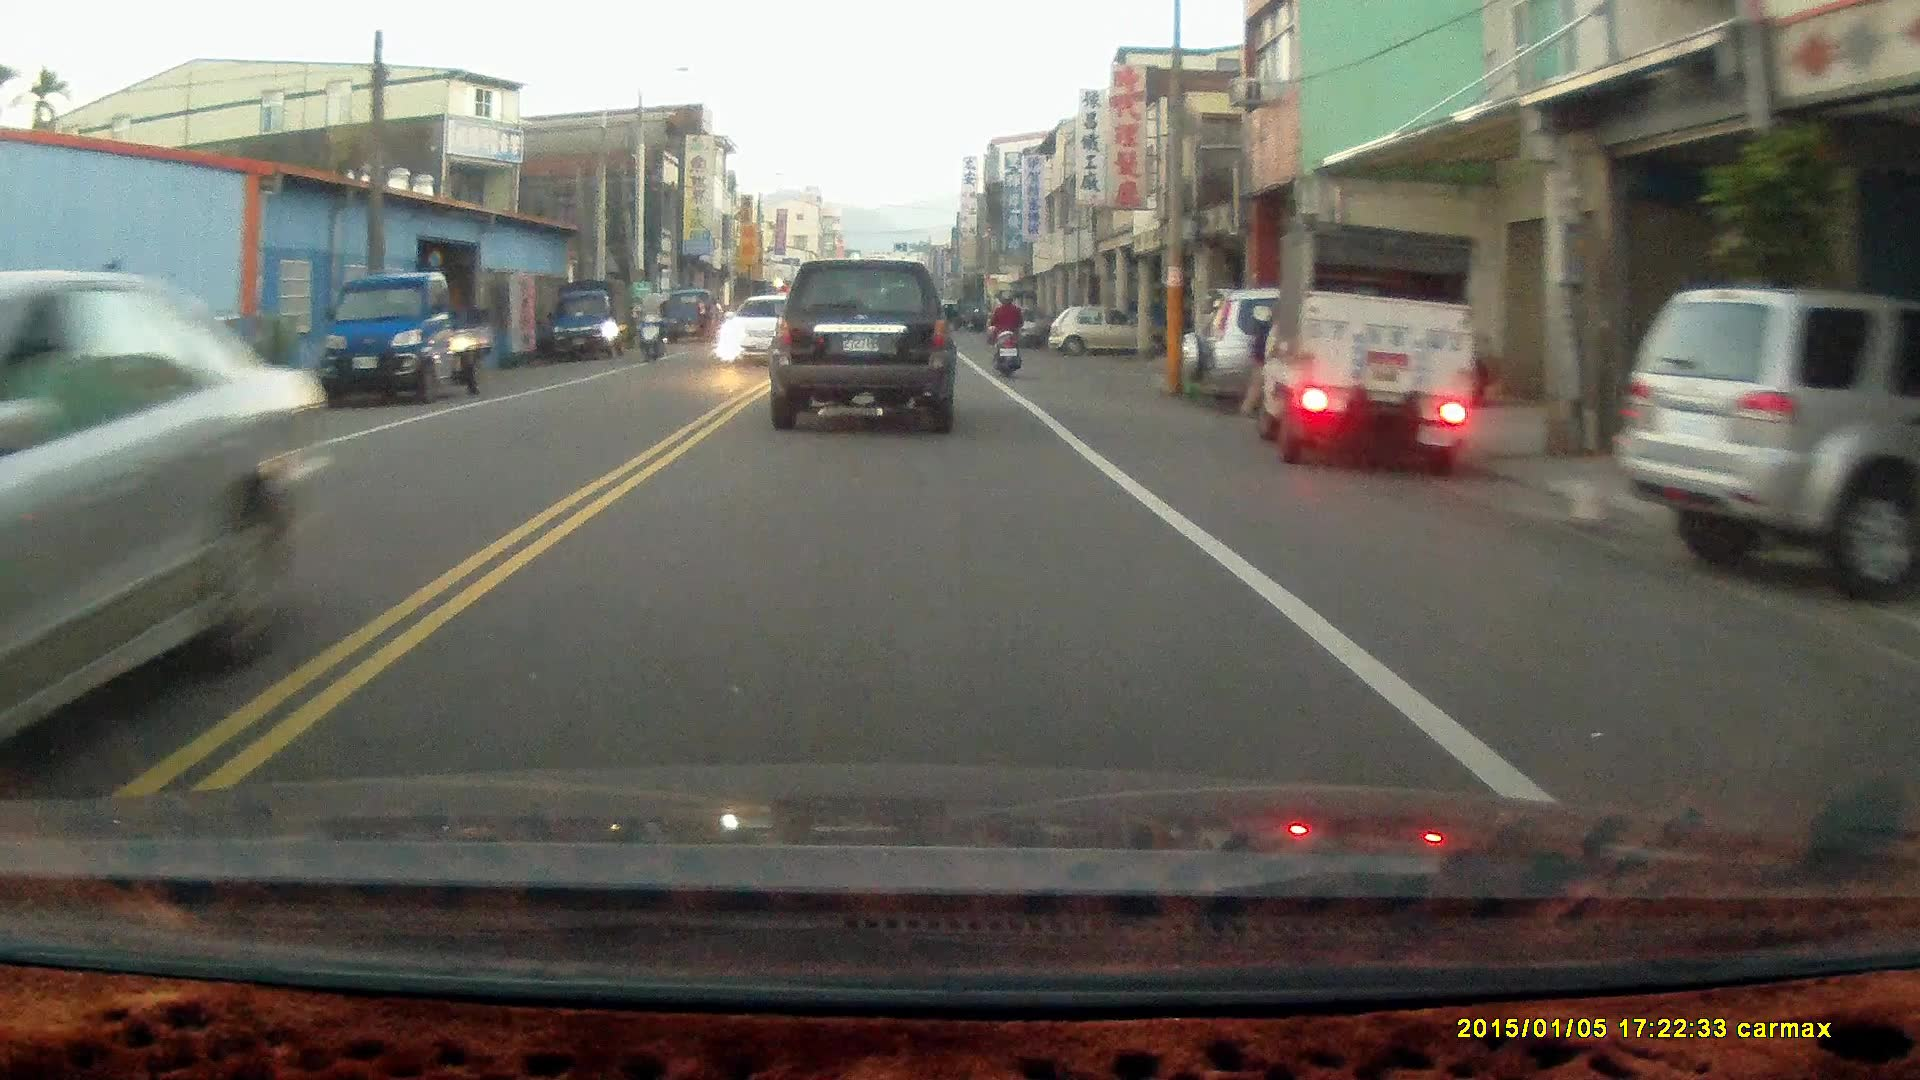pedestrian: (1237, 312, 1277, 417), (692, 296, 712, 346)
rider: (988, 283, 1025, 379), (635, 283, 669, 361)
vehicle: (1, 269, 337, 781), (1626, 285, 1920, 577), (1250, 221, 1485, 471), (1180, 277, 1509, 424), (768, 254, 960, 430), (317, 270, 495, 406), (546, 279, 639, 359), (1053, 306, 1135, 358)
